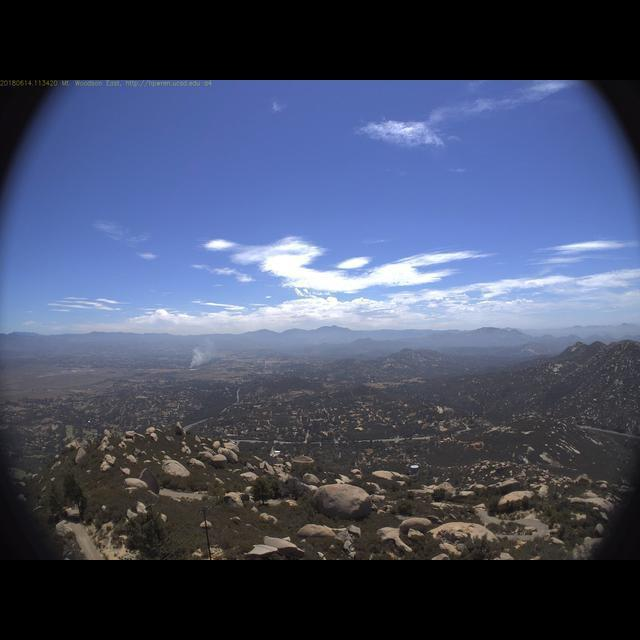Smoke: (189, 335, 224, 370)
